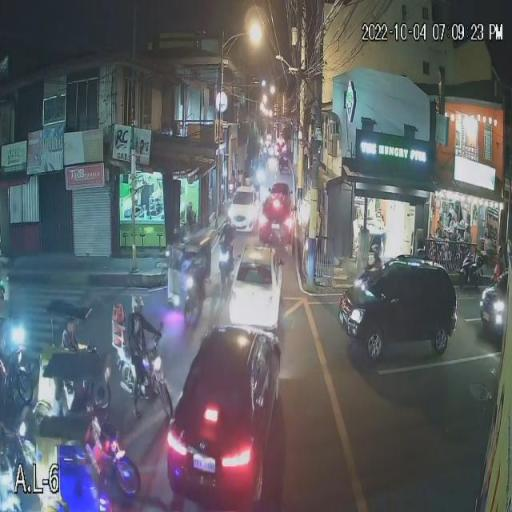helmet: (130, 294, 145, 314), (222, 216, 232, 231)
motorcycle: (111, 340, 176, 414), (217, 243, 235, 285)
rider: (125, 318, 151, 414), (220, 228, 238, 246)
